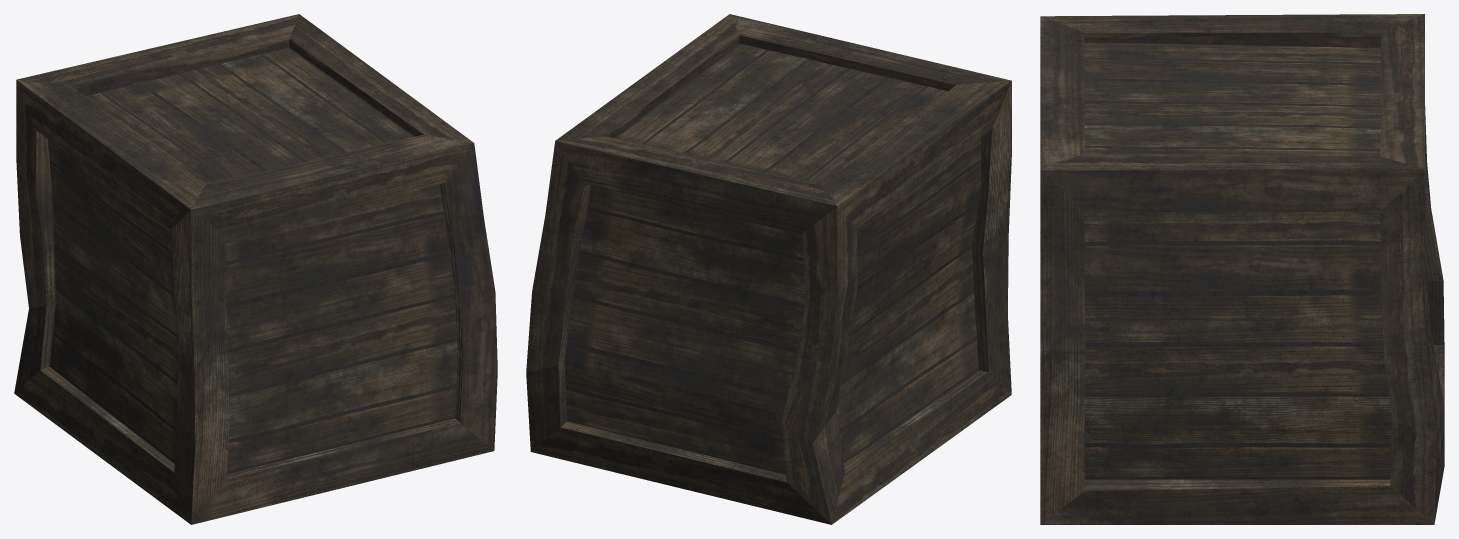
The model's file is Basic Crate Battered.fbx.
3 views of the same model, side by side, from view 1: azimuth 30°, elevation 25°; view 2: azimuth 150°, elevation 25°; view 3: azimuth 270°, elevation 25° (orthographic). The views are drawn at different scales.
Parts seen in each view (by area): view 1: Cube; view 2: Cube; view 3: Cube.
Part boxes in pixels (left/top/right/bottom): Cube: left=14, top=14, right=497, bottom=524; Cube: left=526, top=14, right=1011, bottom=524; Cube: left=1040, top=14, right=1444, bottom=524.
Bounding box in the file's own units: 120 × 117 × 123.
